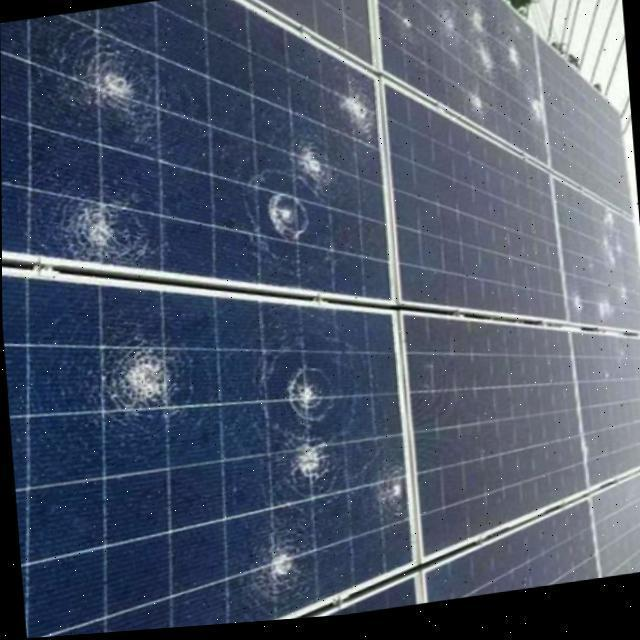Anomaly Solar Panel: (2, 221, 415, 639), (0, 0, 390, 353), (375, 0, 550, 176), (550, 172, 640, 354)
Normal Solar Panel: (407, 301, 590, 561), (380, 81, 568, 329), (536, 31, 632, 236), (423, 505, 600, 609), (571, 328, 640, 495), (589, 482, 640, 587)
Structural Damage: (59, 32, 180, 145), (99, 338, 190, 422), (64, 183, 146, 270), (251, 183, 324, 258), (279, 129, 350, 206), (253, 530, 311, 597), (283, 370, 332, 432), (285, 441, 333, 490), (468, 9, 499, 83), (334, 90, 376, 144), (379, 468, 418, 525), (593, 215, 627, 278), (501, 46, 528, 83), (465, 94, 486, 128), (594, 307, 615, 331), (530, 104, 543, 132), (573, 304, 584, 322)
